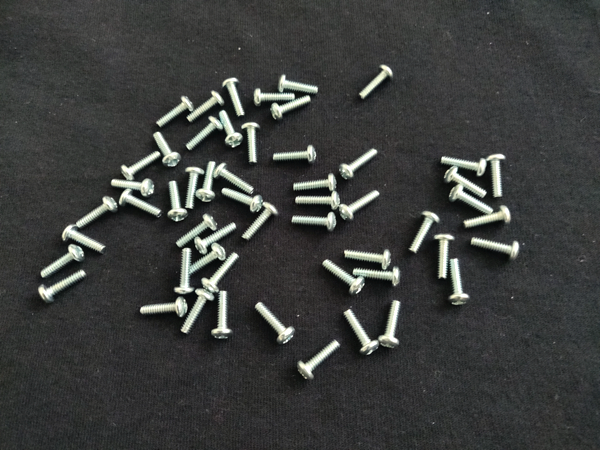shortscrew: (297, 340, 341, 382), (254, 302, 295, 346), (345, 309, 380, 357), (322, 259, 366, 296), (180, 289, 214, 336), (202, 252, 239, 295), (38, 271, 86, 303), (241, 202, 278, 243), (40, 246, 85, 279), (445, 165, 488, 199), (450, 184, 494, 217), (177, 214, 218, 249), (76, 196, 118, 230), (409, 211, 441, 255), (358, 64, 395, 102), (339, 190, 381, 223), (194, 223, 237, 255), (185, 116, 223, 152), (62, 224, 107, 253), (119, 190, 164, 219), (214, 163, 254, 195), (472, 238, 521, 264), (121, 151, 162, 182), (187, 90, 225, 123), (378, 300, 403, 350), (339, 149, 378, 181), (157, 96, 194, 129), (269, 95, 312, 122), (222, 186, 263, 214), (463, 205, 512, 228), (191, 244, 227, 274), (353, 266, 402, 288), (212, 291, 234, 340), (174, 249, 196, 298), (449, 258, 470, 307), (434, 233, 455, 282), (155, 131, 181, 170), (344, 250, 392, 271), (140, 298, 189, 318), (485, 154, 507, 198), (273, 145, 317, 167), (291, 212, 337, 233), (195, 161, 218, 203), (442, 156, 487, 177), (295, 190, 340, 211), (277, 74, 318, 97), (220, 111, 245, 148), (223, 77, 245, 119), (184, 165, 204, 210), (292, 173, 339, 192), (112, 178, 155, 198), (242, 122, 262, 164), (253, 88, 295, 107), (168, 181, 187, 222)
